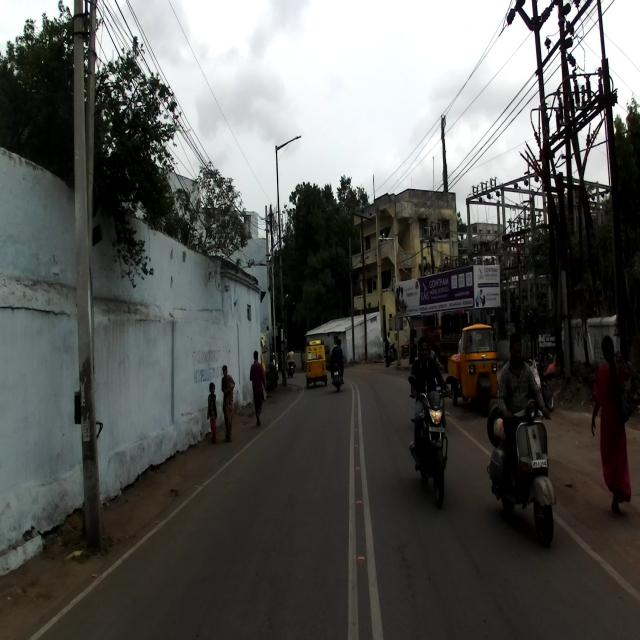autorickshaw: (446, 321, 501, 417)
motorcycle_Hero: (408, 367, 452, 510)
motorcycle_TVS: (528, 350, 554, 412)
scooter: (486, 398, 556, 548)
